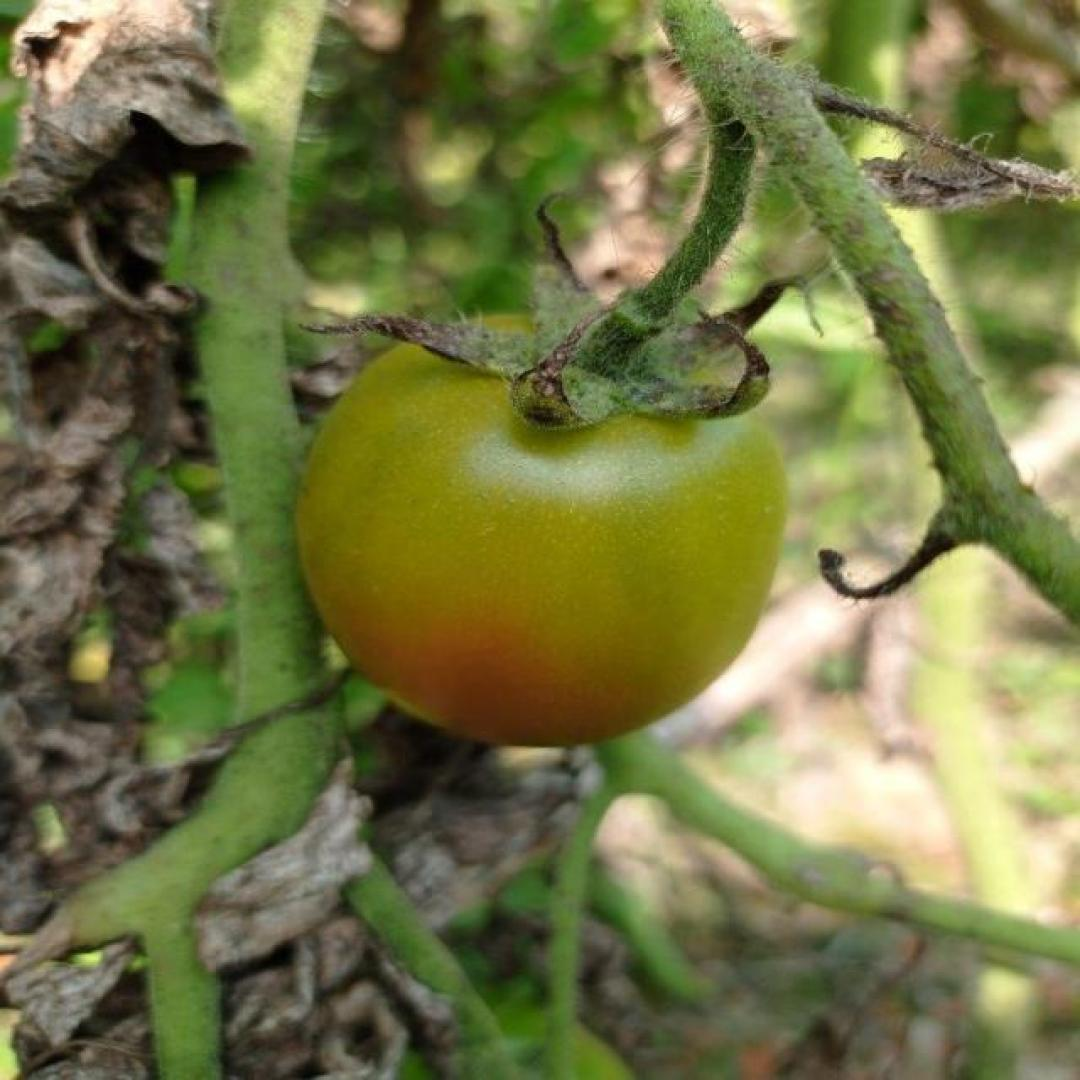setengah_matang: (288, 310, 792, 750)
